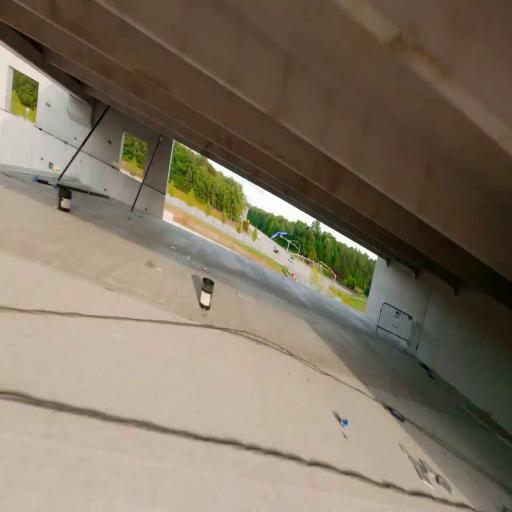uav: (270, 231, 289, 242)
